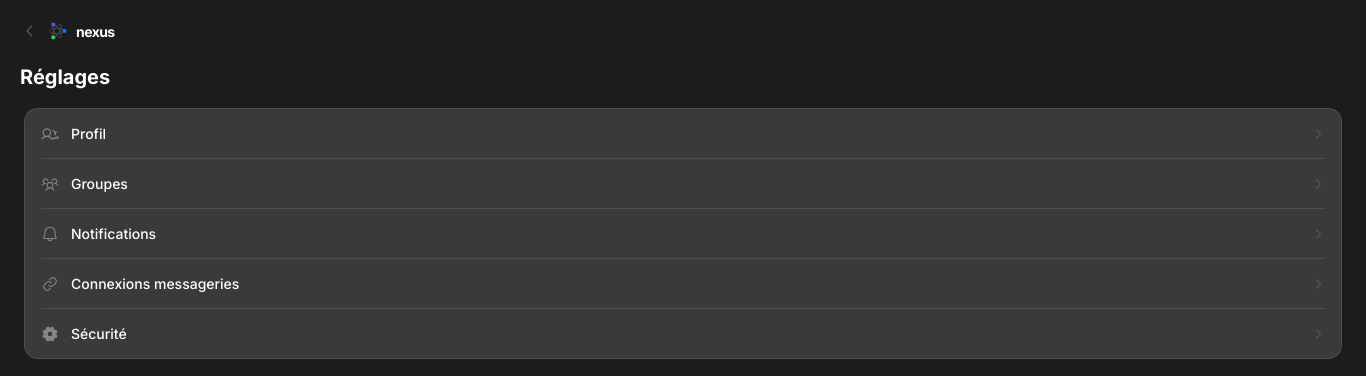
Test: SettingsScreen — responsive › mobile (< 768px) › une section à hooks réseau (Groupes) se monte normalement dans le wrapper détail
This screenshot has width=1366, height=376.
Click the button "Groupes". click: (99, 184)
box: [25,159,1341,208]
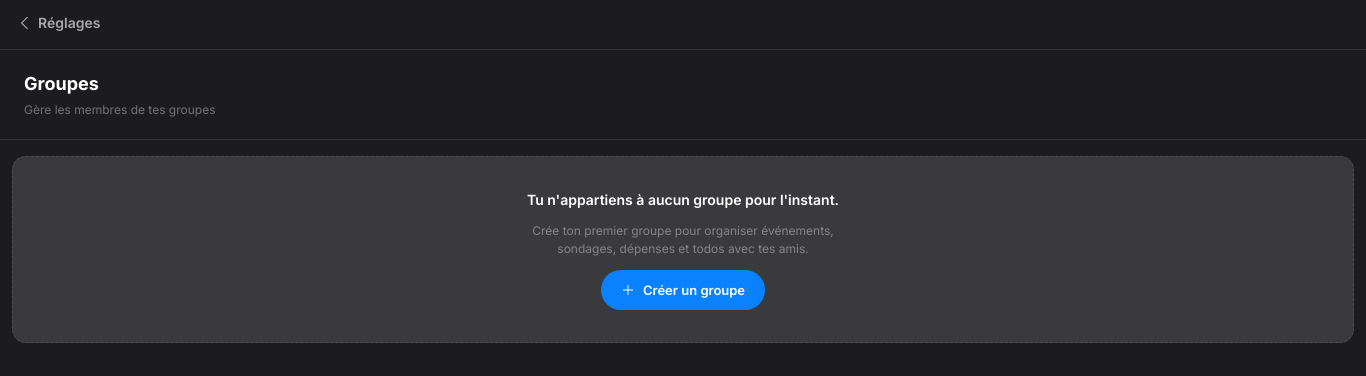
Check: the text "Gère les membres de tes groupes" is shown, box [24,101,216,119]
